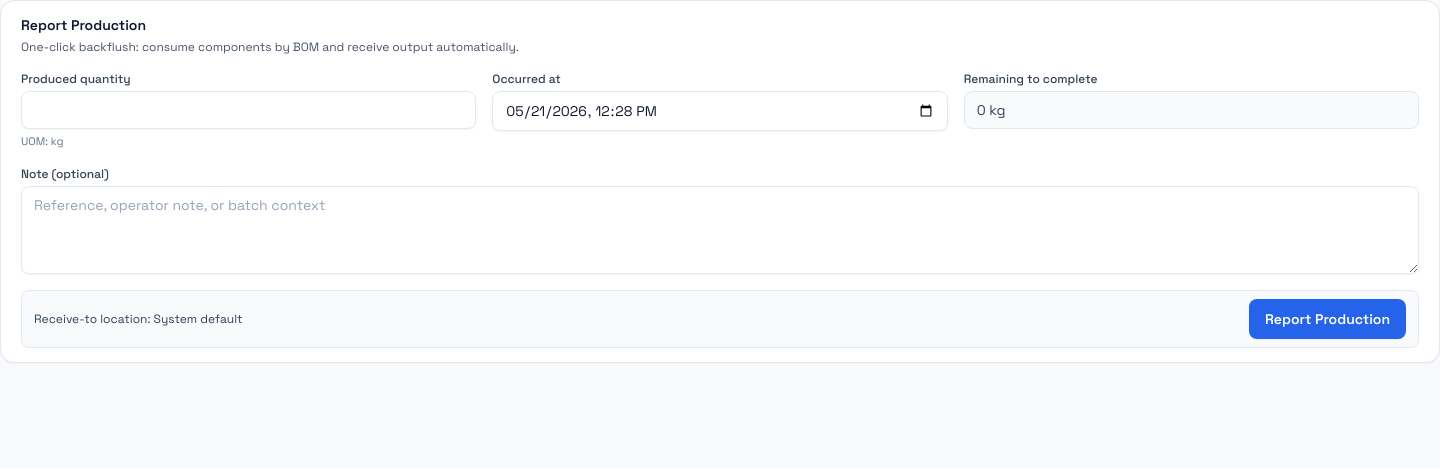
ReportProductionForm › blocks submit for zero quantity
Click the button "Report Production" at (1328, 318), box [1249,298,1406,338]
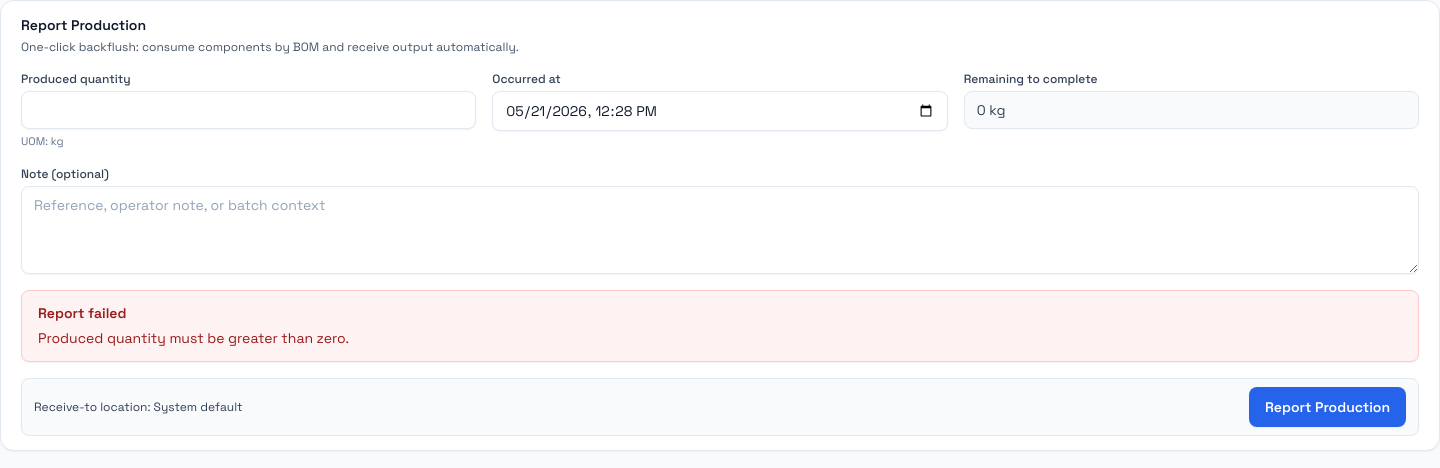
Result: the text "Produced quantity must be greater than zero." is shown at [38,328,349,346]
